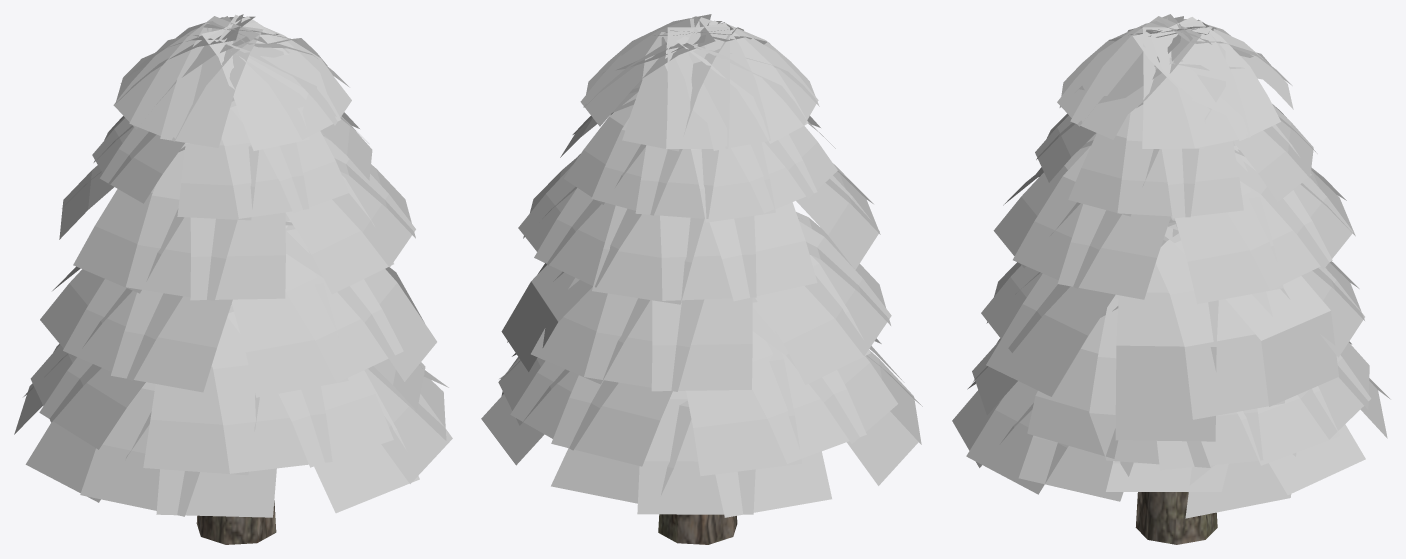
Rendered from Arvore1.fbx.
The picture shows the model from 3 angles, left to right: view 1: azimuth 30°, elevation 25°; view 2: azimuth 150°, elevation 25°; view 3: azimuth 270°, elevation 25°; orthographic projection.
Visible parts, largest first — view 1: Folhas4, Tronco5; view 2: Folhas4, Tronco5; view 3: Folhas4, Tronco5.
Boxes of the visible parts, x1,y1,x2,y2 form: Folhas4: (14,14,452,517); Tronco5: (196,500,276,544); Folhas4: (481,14,922,517); Tronco5: (658,514,737,544); Folhas4: (952,14,1390,518); Tronco5: (1135,492,1217,544).
Size of the model in its own units: 774 by 767 by 960.
